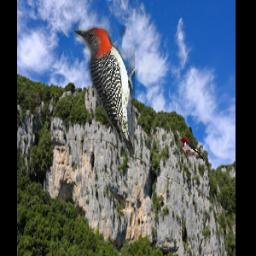Woodpecker: (75, 26, 136, 155), (177, 136, 207, 159)
